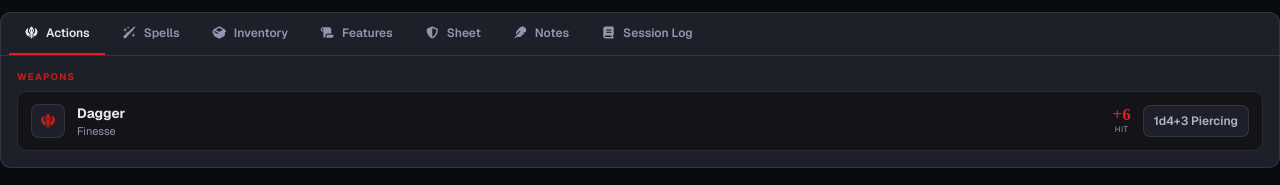
Test: ContentTabs › shows an intentional empty state on the Spells tab for a non-caster
The width and height of the screenshot is (1280, 185).
Click the tab "Spells" at x=151, y=34, box [107,13,195,55]
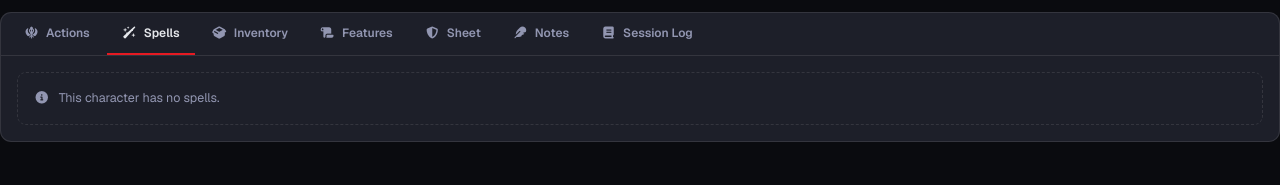
Check: the text "This character has no spells." is shown, box [17,72,1263,125]
